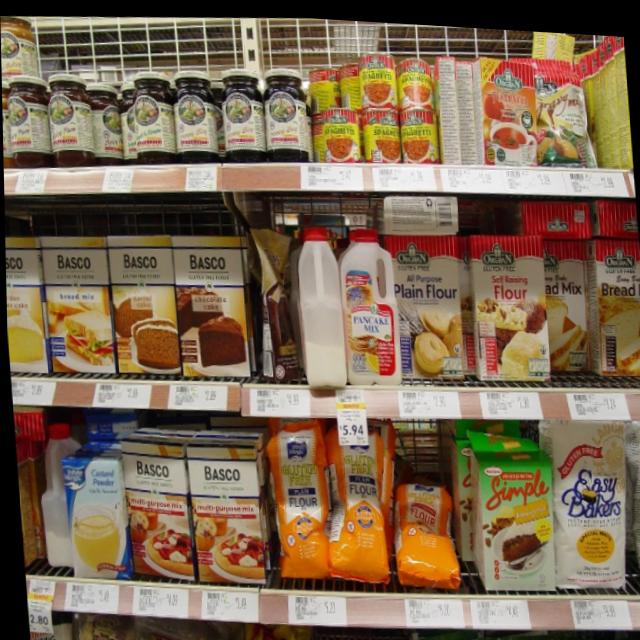q82: (171, 69, 227, 161), (260, 62, 314, 157), (123, 60, 177, 153), (5, 74, 55, 168), (46, 66, 95, 161), (221, 60, 266, 158)
